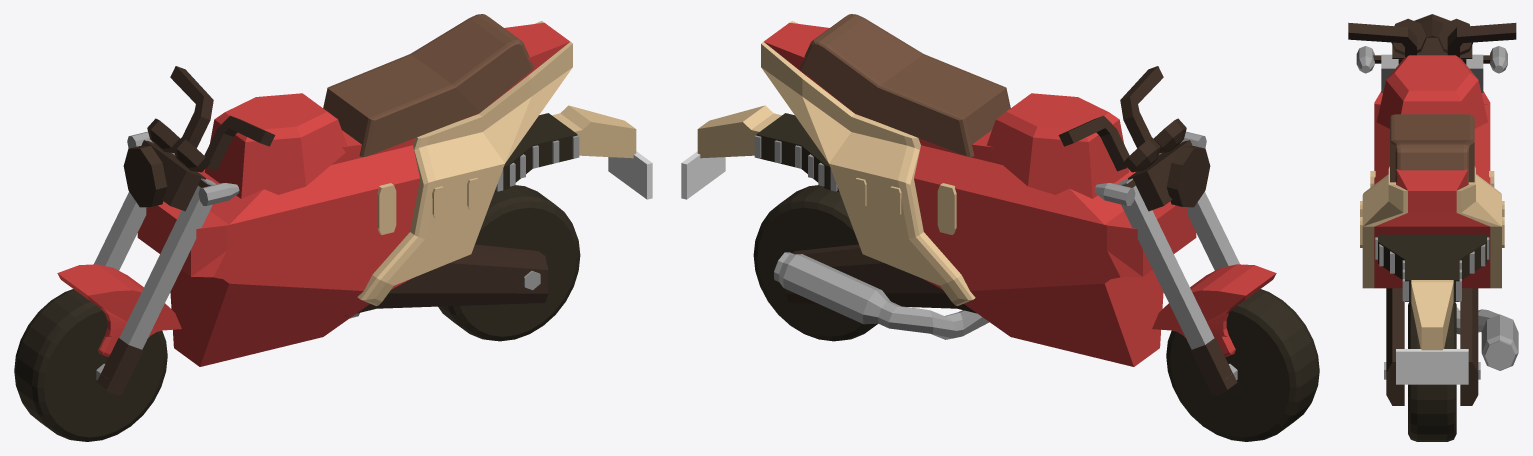
Rendered from Bike-notMoving0.fbx.
3 renders of one model, left to right at view 1: azimuth 30°, elevation 25°; view 2: azimuth 150°, elevation 25°; view 3: azimuth 270°, elevation 25°, orthographic. The views are drawn at different scales.
Visible parts, largest first — view 1: 立方体.012, 立方体.022, 立方体.017, 円柱.006, 円柱.007, 円柱.013, 立方体.015, 円柱.009, 円柱.008, 立方体.021, 立方体.014, 立方体.013 (+8 smaller); view 2: 立方体.012, 立方体.022, 立方体.017, 円柱.006, 円柱.013, 円柱.007, 円柱.019, 円柱.009, 立方体.015, 円柱.008, 立方体.021, 立方体.014 (+9 smaller); view 3: 立方体.012, 円柱.013, 立方体.022, 立方体.017, 立方体.013, 立方体.015, 円柱.007, 立方体.021, 立方体.016, 立方体.014, 円柱.019, 円柱.009 (+10 smaller).
Boxes of the visible parts, left/top/right/bottom form: 立方体.012: left=137, top=22, right=570, bottom=366; 立方体.022: left=357, top=21, right=572, bottom=305; 立方体.017: left=323, top=14, right=534, bottom=156; 円柱.006: left=14, top=289, right=167, bottom=441; 円柱.007: left=438, top=185, right=580, bottom=341; 円柱.013: left=205, top=93, right=347, bottom=198; 立方体.015: left=345, top=244, right=548, bottom=316; 円柱.009: left=94, top=143, right=216, bottom=349; 円柱.008: left=57, top=264, right=181, bottom=356; 立方体.021: left=170, top=66, right=275, bottom=171; 立方体.014: left=552, top=105, right=636, bottom=158; 立方体.013: left=494, top=113, right=577, bottom=192; 立方体.012: left=763, top=22, right=1196, bottom=366; 立方体.022: left=761, top=21, right=975, bottom=305; 立方体.017: left=799, top=14, right=1010, bottom=156; 円柱.006: left=1166, top=289, right=1319, bottom=441; 円柱.013: left=986, top=93, right=1128, bottom=198; 円柱.007: left=753, top=185, right=877, bottom=341; 円柱.019: left=774, top=252, right=989, bottom=339; 円柱.009: left=1117, top=143, right=1239, bottom=349; 立方体.015: left=785, top=244, right=976, bottom=313; 円柱.008: left=1152, top=264, right=1276, bottom=356; 立方体.021: left=1058, top=66, right=1163, bottom=171; 立方体.014: left=697, top=105, right=781, bottom=158; 立方体.012: left=1374, top=91, right=1490, bottom=288; 円柱.013: left=1376, top=55, right=1487, bottom=128; 立方体.022: left=1362, top=166, right=1501, bottom=288; 立方体.017: left=1390, top=114, right=1474, bottom=182; 立方体.013: left=1378, top=234, right=1486, bottom=301; 立方体.015: left=1386, top=288, right=1478, bottom=405; 円柱.007: left=1408, top=302, right=1456, bottom=441; 立方体.021: left=1348, top=22, right=1516, bottom=57; 立方体.016: left=1396, top=349, right=1468, bottom=384; 立方体.014: left=1411, top=280, right=1453, bottom=350; 円柱.019: left=1456, top=307, right=1518, bottom=370; 円柱.009: left=1381, top=54, right=1483, bottom=92.
Size of the model in its own units: 5429 by 2614 by 1405.
